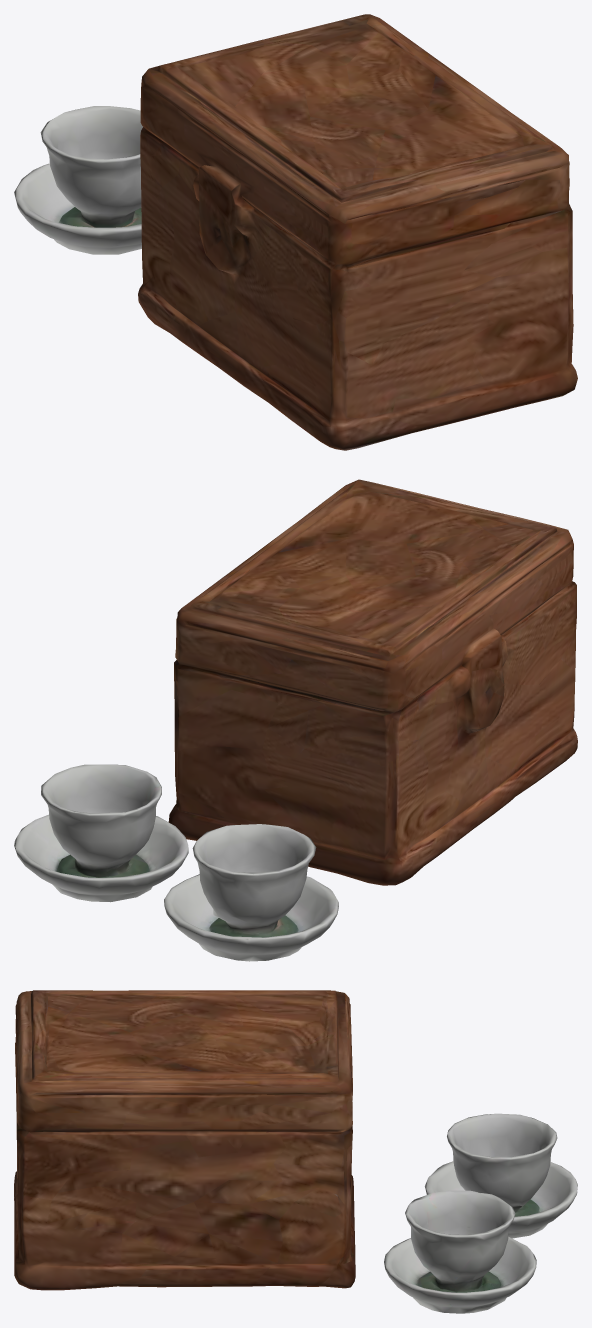
The model's file is hw_chalian.glb.
3 renders of one model, top to bottom at view 1: azimuth 30°, elevation 25°; view 2: azimuth 150°, elevation 25°; view 3: azimuth 270°, elevation 25°, orthographic. The views are drawn at different scales.
Visible parts, largest first — view 1: tripo_node_f8881aa1-b78a-4c66-b8d7-229897ff27ea; view 2: tripo_node_f8881aa1-b78a-4c66-b8d7-229897ff27ea; view 3: tripo_node_f8881aa1-b78a-4c66-b8d7-229897ff27ea.
Part boxes in pixels (left/top/right/bottom): tripo_node_f8881aa1-b78a-4c66-b8d7-229897ff27ea: left=14, top=14, right=577, bottom=450; tripo_node_f8881aa1-b78a-4c66-b8d7-229897ff27ea: left=14, top=479, right=577, bottom=961; tripo_node_f8881aa1-b78a-4c66-b8d7-229897ff27ea: left=14, top=990, right=577, bottom=1313.
Size of the model in its own units: 1.44 by 1 by 2.41.
Materials: 1 (1 with a texture image).
